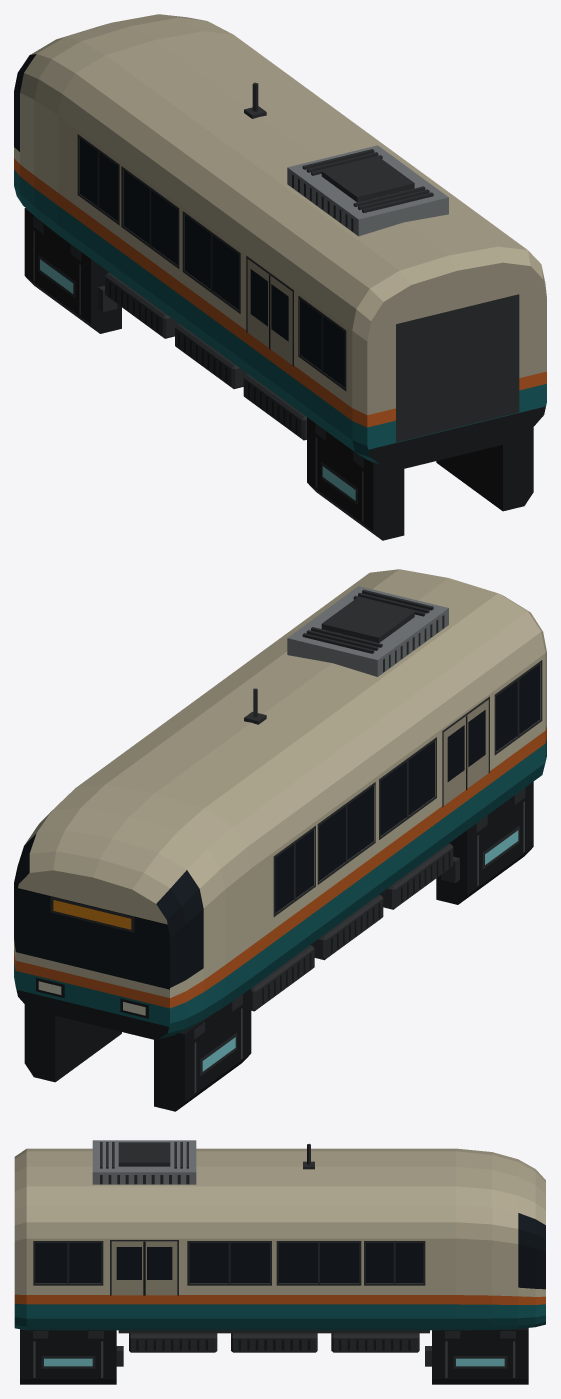
The model's file is cab.glb.
3 views of the same model, one above another, from view 1: azimuth 30°, elevation 25°; view 2: azimuth 150°, elevation 25°; view 3: azimuth 270°, elevation 25° (orthographic). The views are drawn at different scales.
Parts seen in each view (by area): view 1: cab (×2); view 2: cab (×2); view 3: cab (×2).
Part boxes in pixels (x1,y1,x2,y2): cab (×2): (14, 14, 546, 540); cab (×2): (14, 569, 546, 1111); cab (×2): (14, 1140, 545, 1384).
Bounding box in the file's own units: 9.58 × 13.7 × 30.79.
